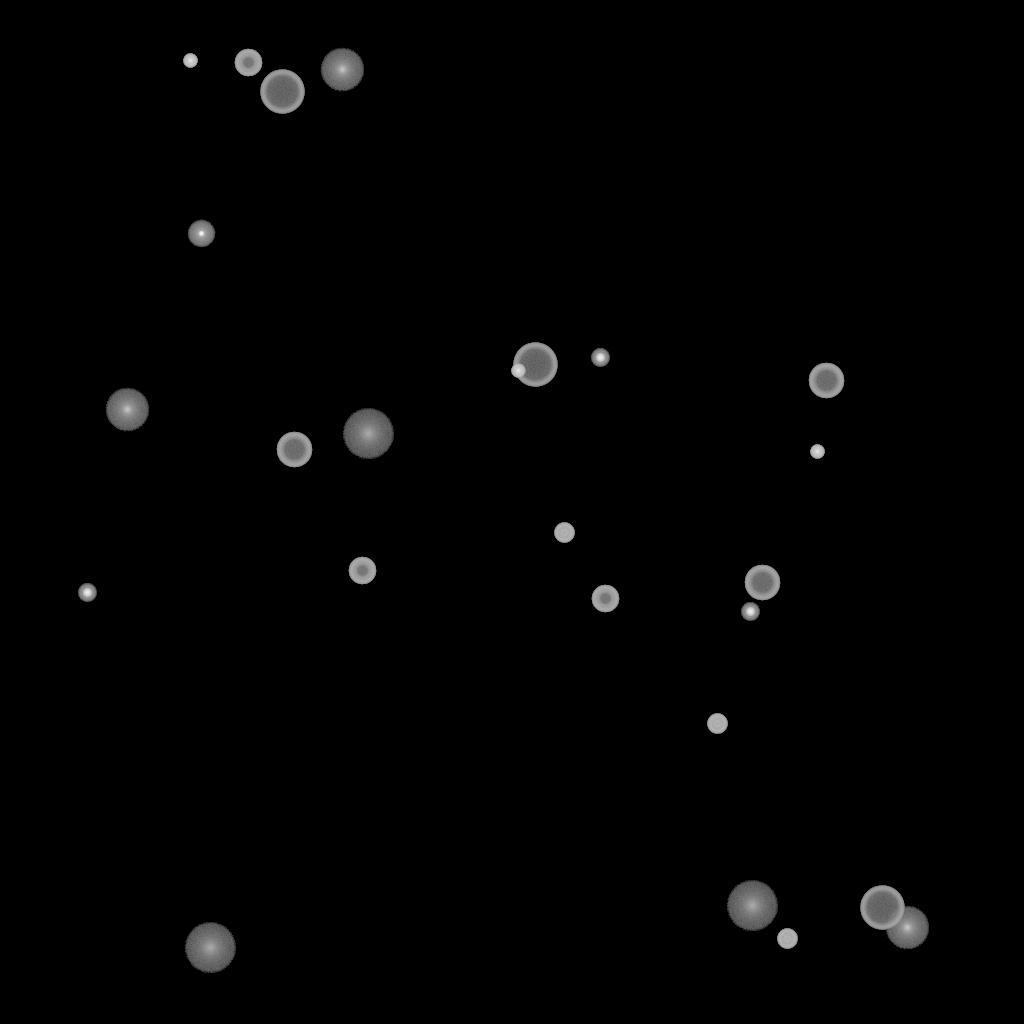depth:-10: (187, 220, 215, 248)
depth:-20: (591, 349, 609, 367), (741, 603, 759, 621), (78, 584, 96, 602)
depth:-30: (810, 445, 824, 459), (511, 364, 525, 378), (183, 54, 197, 68)
depth:-40: (777, 929, 797, 949), (554, 523, 574, 543), (707, 714, 727, 734)
depth:-50: (591, 585, 619, 613), (348, 557, 376, 585), (234, 49, 262, 77)
depth:-60: (276, 432, 312, 468), (808, 363, 844, 399), (744, 565, 780, 601)
depth:-70: (513, 343, 557, 387), (260, 70, 304, 114), (860, 886, 904, 930)
depth:10: (885, 906, 929, 950), (320, 48, 364, 92), (105, 388, 149, 432)
depth:20: (342, 409, 394, 459), (726, 881, 778, 931), (184, 923, 236, 973)
